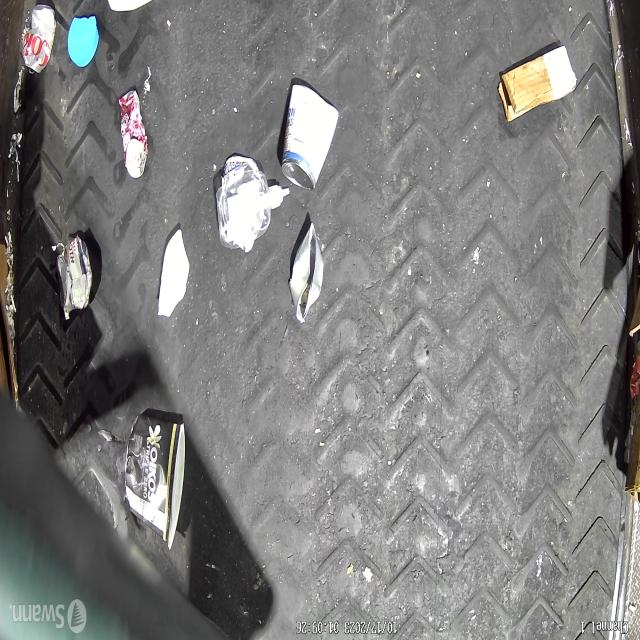can: (280, 82, 340, 192), (288, 222, 324, 324), (118, 88, 148, 178), (19, 4, 56, 76), (58, 236, 92, 312)
